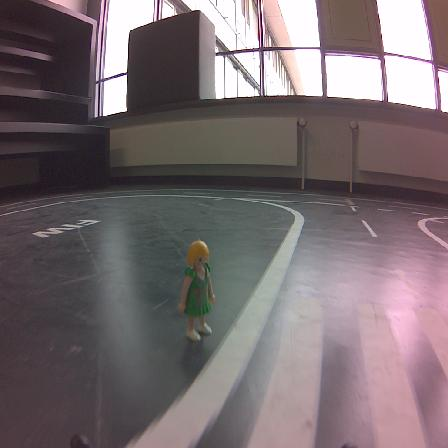PERSON: (178, 240, 214, 340)
